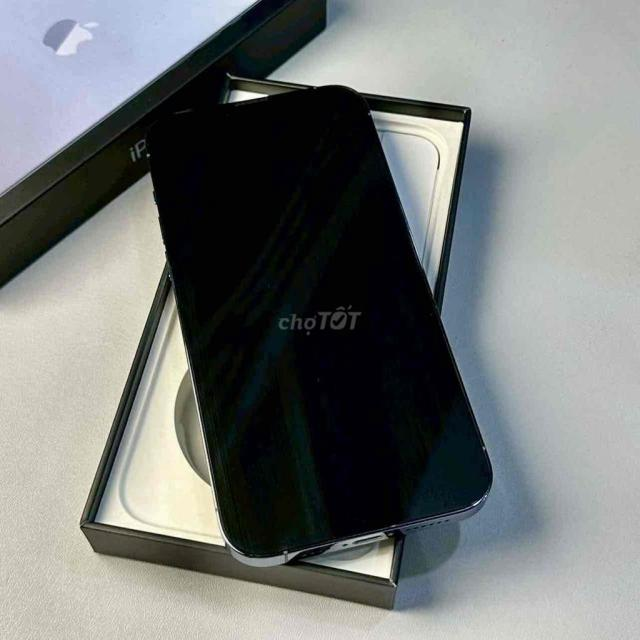gen_12_13: (143, 87, 497, 563)
